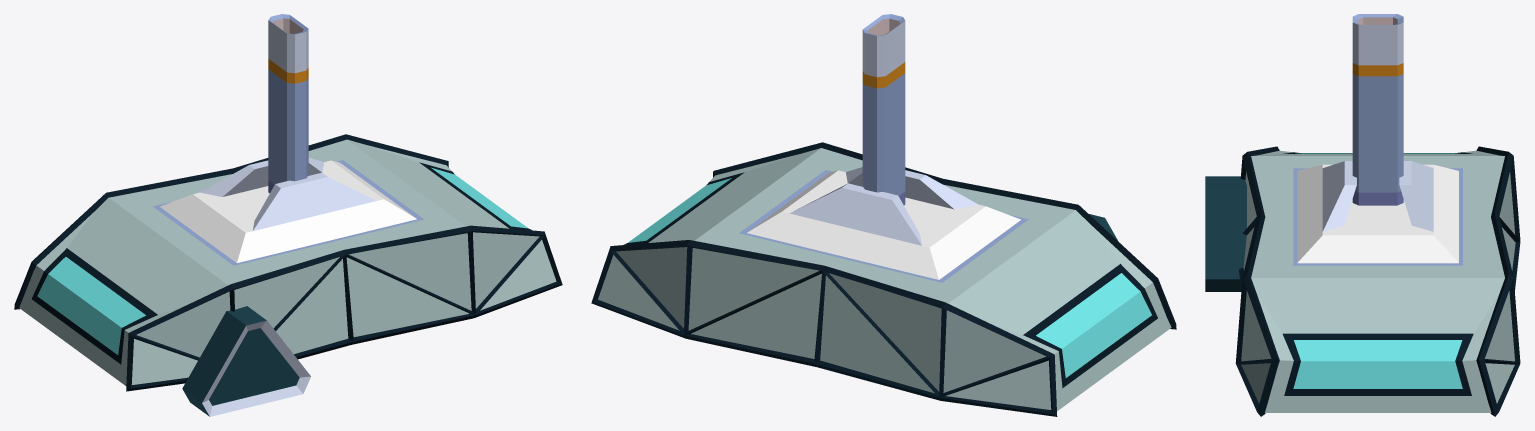
File: tankLaser.fbx
The picture shows the model from 3 angles, left to right: view 1: azimuth 30°, elevation 25°; view 2: azimuth 150°, elevation 25°; view 3: azimuth 270°, elevation 25°; orthographic projection. The views are drawn at different scales.
Parts seen in each view (by area): view 1: TankLaser, TankLaserMountingPoint, TankLaserWireframe, TankLaserWheel, TankLaserBarrel; view 2: TankLaser, TankLaserMountingPoint, TankLaserWireframe, TankLaserBarrel; view 3: TankLaser, TankLaserMountingPoint, TankLaserBarrel, TankLaserWireframe, TankLaserWheel.
Part boxes in pixels (left/top/right/bottom): TankLaser: left=19, top=139, right=556, bottom=385; TankLaserMountingPoint: left=160, top=157, right=416, bottom=262; TankLaserWireframe: left=14, top=134, right=562, bottom=391; TankLaserWheel: left=182, top=306, right=310, bottom=416; TankLaserBarrel: left=268, top=14, right=308, bottom=193; TankLaser: left=598, top=148, right=1171, bottom=411; TankLaserMountingPoint: left=747, top=167, right=1020, bottom=279; TankLaserWireframe: left=591, top=142, right=1176, bottom=416; TankLaserBarrel: left=862, top=14, right=905, bottom=205; TankLaser: left=1241, top=150, right=1515, bottom=412; TankLaserMountingPoint: left=1297, top=161, right=1458, bottom=263; TankLaserBarrel: left=1352, top=14, right=1403, bottom=205; TankLaserWireframe: left=1235, top=146, right=1520, bottom=416; TankLaserWheel: left=1205, top=176, right=1246, bottom=291.
Bounding box in the file's own units: 118 × 75.52 × 70.25.
1 material, 1 textured.
